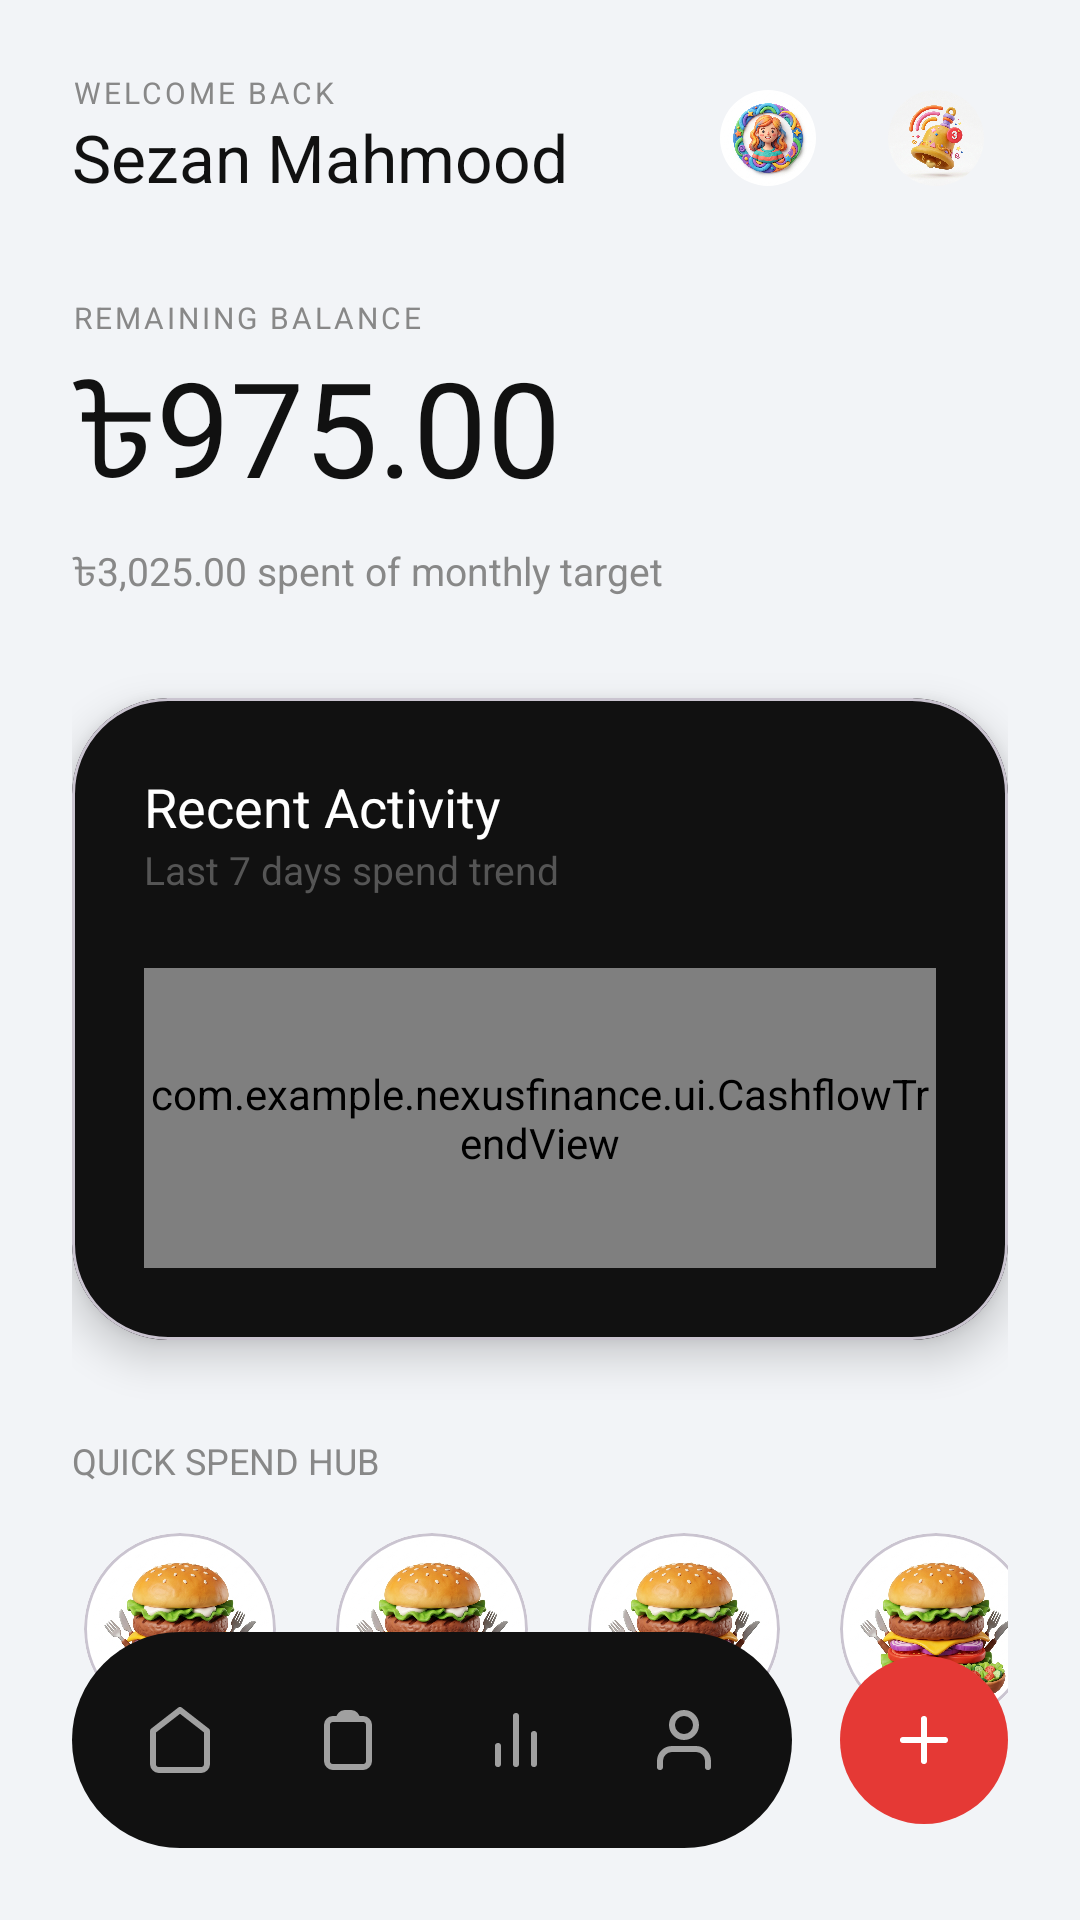

Named icons in this screenshot (1080 x 1920) and their centers, point (x, y):
add luxury: point (924, 1740)
colorful bell: point (936, 141)
colorful profile: point (768, 138)
home luxury: point (180, 1740)
logs pro: point (348, 1740)
profile luxury: point (684, 1740)
stats luxury: point (516, 1740)
